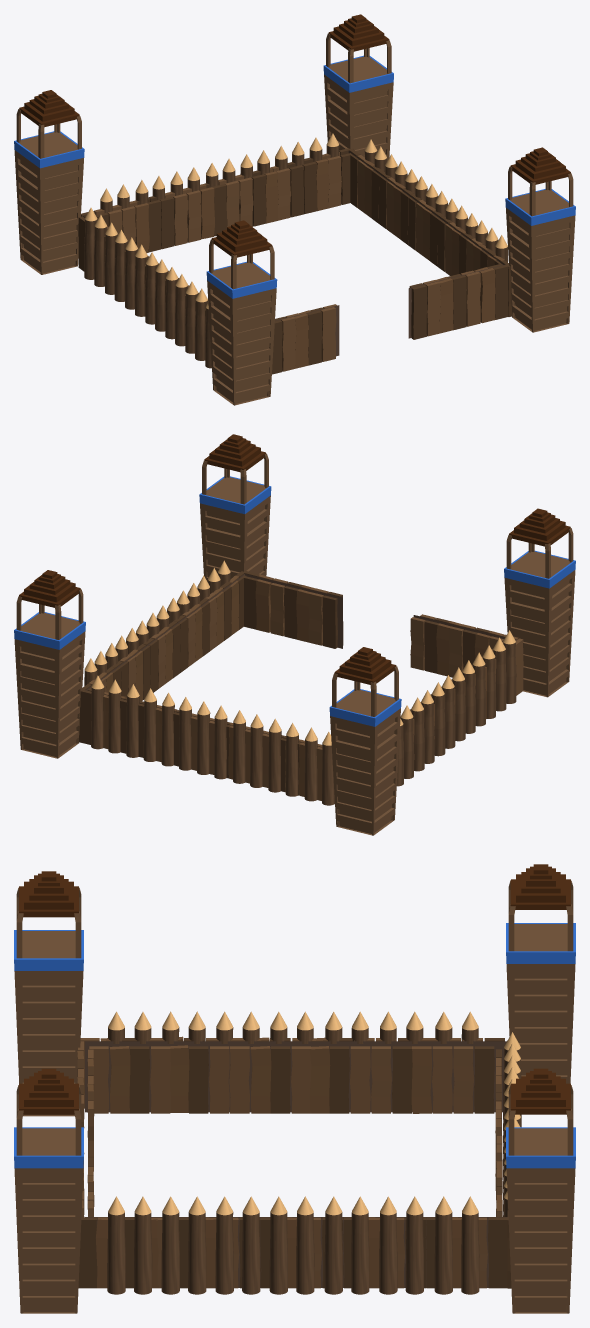
File: Training ground.fbx
3 views of the same model, one above another, from view 1: azimuth 30°, elevation 25°; view 2: azimuth 150°, elevation 25°; view 3: azimuth 270°, elevation 25° (orthographic). The views are drawn at different scales.
Visible parts, largest first — view 1: Cube.004; view 2: Cube.004; view 3: Cube.004.
Boxes of the visible parts, box(x1,y1,x2,y2) form: Cube.004: box(14, 14, 575, 405); Cube.004: box(14, 434, 575, 835); Cube.004: box(14, 864, 575, 1313).
Bounding box in the file's own units: 38.96 × 17.87 × 39.56.
Materials: 10 (2 with a texture image).
